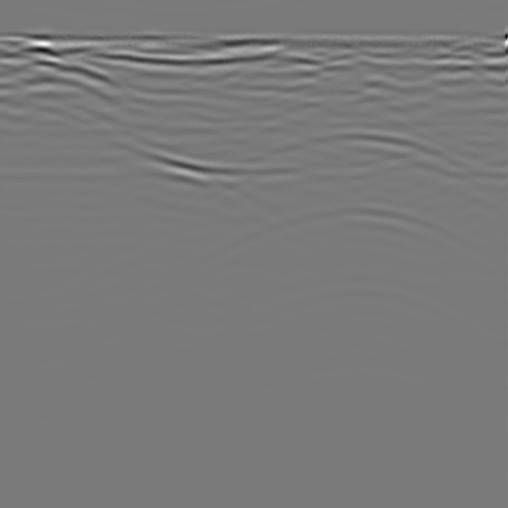hyperbola: (216, 123, 484, 259)
